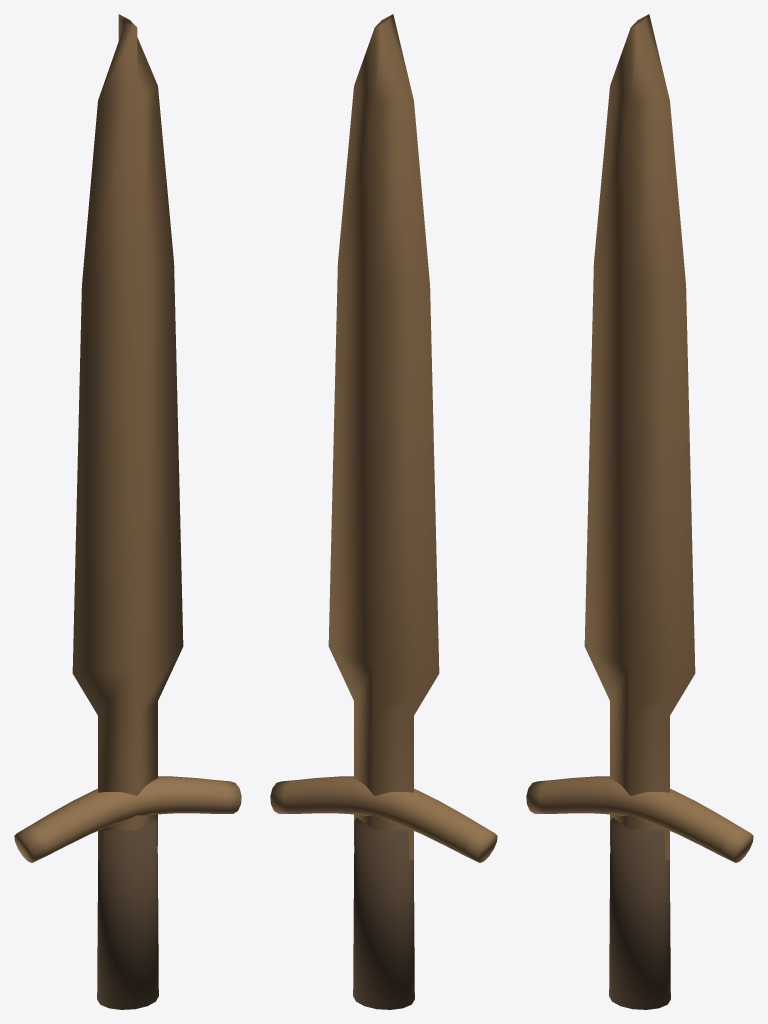
Rendered from ArenaPracticeSword.glb.
3 renders of one model, left to right at view 1: azimuth 30°, elevation 25°; view 2: azimuth 150°, elevation 25°; view 3: azimuth 330°, elevation 25°, orthographic.
Visible parts, largest first — view 1: Shaped wooden practice blade, Leather wrapped grip, Curved wooden guard; view 2: Shaped wooden practice blade, Leather wrapped grip, Curved wooden guard; view 3: Shaped wooden practice blade, Leather wrapped grip, Curved wooden guard.
Part boxes in pixels (x1,y1,x2,y2): Shaped wooden practice blade: (72, 14, 183, 860); Leather wrapped grip: (97, 818, 158, 1009); Curved wooden guard: (14, 776, 241, 862); Shaped wooden practice blade: (328, 14, 439, 860); Leather wrapped grip: (353, 818, 414, 1009); Curved wooden guard: (270, 776, 497, 862); Shaped wooden practice blade: (584, 14, 695, 860); Leather wrapped grip: (609, 818, 670, 1009); Curved wooden guard: (526, 776, 753, 862).
Bounding box in the file's own units: 0.1864 × 0.81 × 0.0402.
